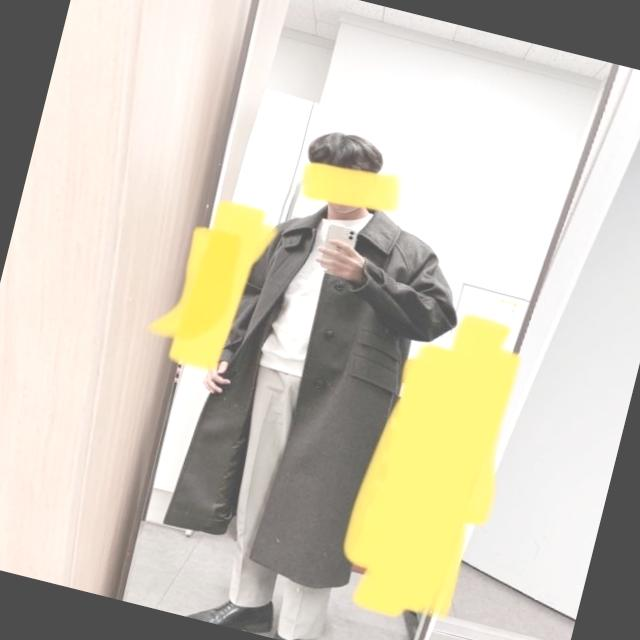coat: (148, 173, 480, 606)
slacks: (198, 361, 381, 640)
